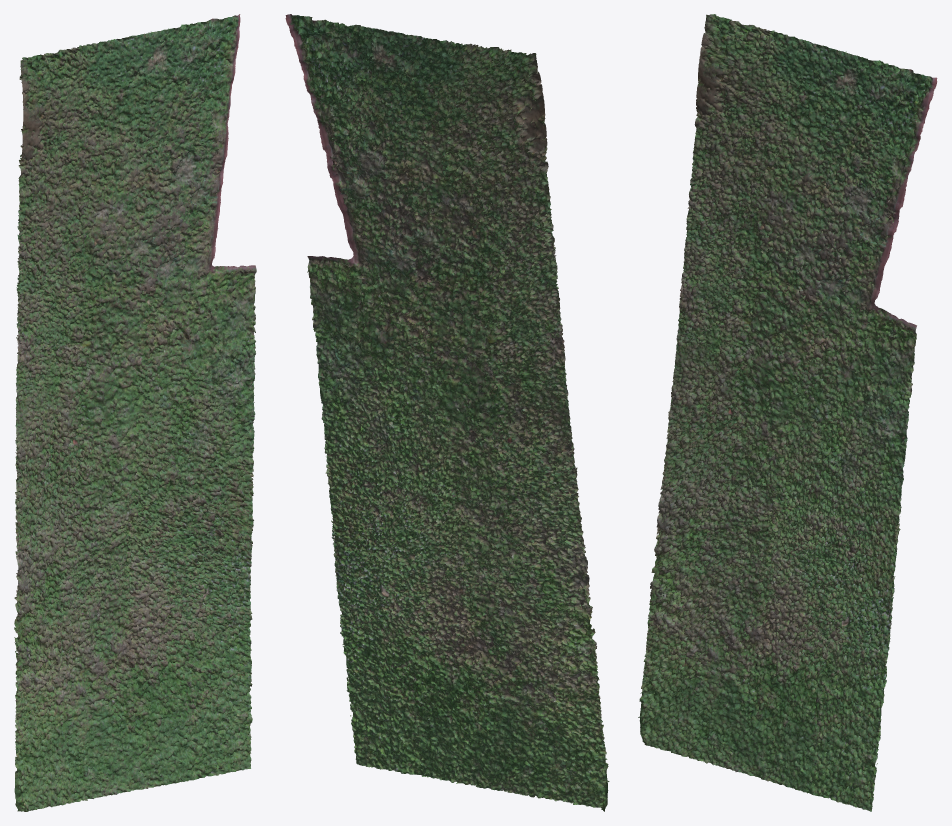
File: Grass.fbx
The picture shows the model from 3 angles, left to right: view 1: azimuth 30°, elevation 25°; view 2: azimuth 150°, elevation 25°; view 3: azimuth 330°, elevation 25°; orthographic projection. The views are drawn at different scales.
Visible parts, largest first — view 1: Model; view 2: Model; view 3: Model.
Part boxes in pixels (x1=…): Model: x1=14, y1=14, x2=256, y2=811; Model: x1=285, y1=14, x2=609, y2=811; Model: x1=638, y1=14, x2=937, y2=811.
Bounding box in the file's own units: 104 × 28.84 × 277.
